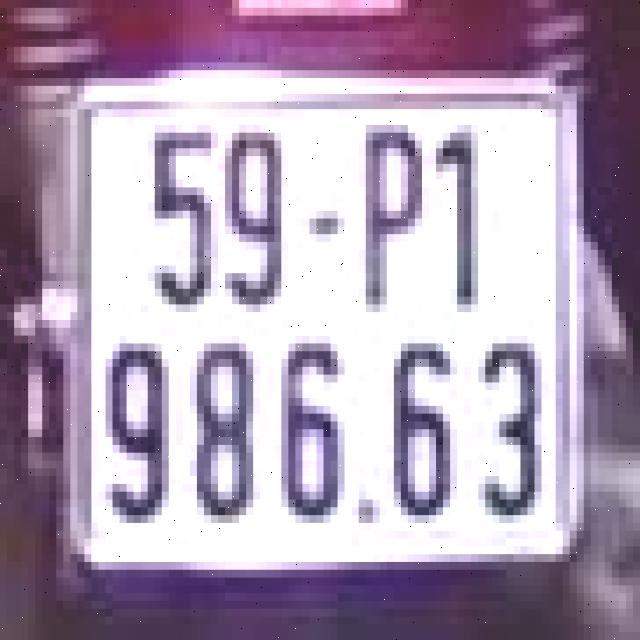1: (432, 113, 503, 308)
3: (478, 332, 542, 519)
5: (134, 117, 218, 312)
6: (380, 328, 464, 523), (271, 328, 348, 531)
8: (183, 336, 260, 530)
9: (95, 332, 172, 527), (221, 113, 292, 316)
P: (359, 109, 429, 328)
